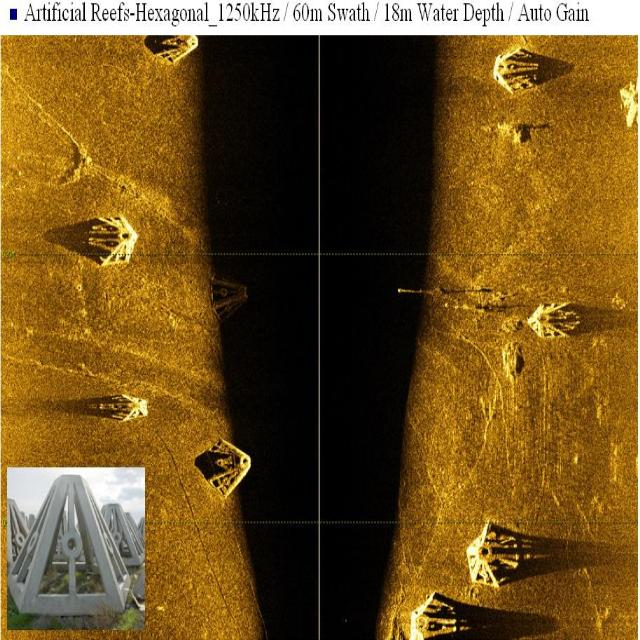other: (494, 282, 586, 392), (459, 502, 530, 592), (478, 38, 556, 112), (197, 418, 253, 508), (85, 206, 142, 272), (97, 374, 155, 433), (408, 583, 460, 639), (150, 32, 207, 68)
